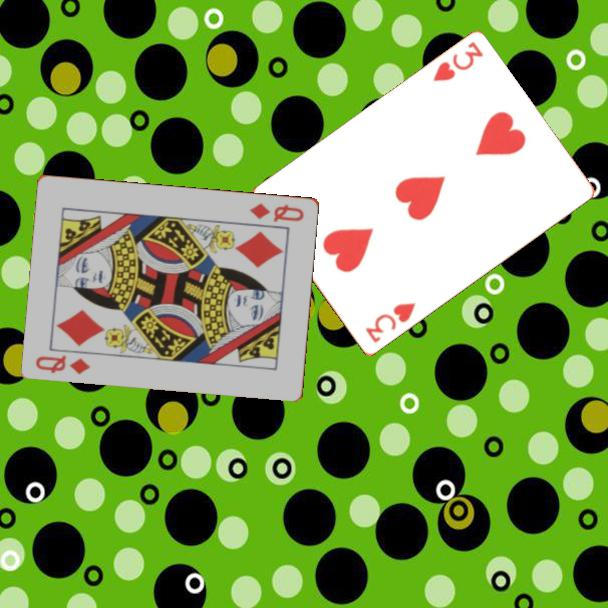d12: (32, 351, 94, 377), (246, 199, 307, 224)
h03: (429, 38, 486, 85), (362, 299, 418, 346)
